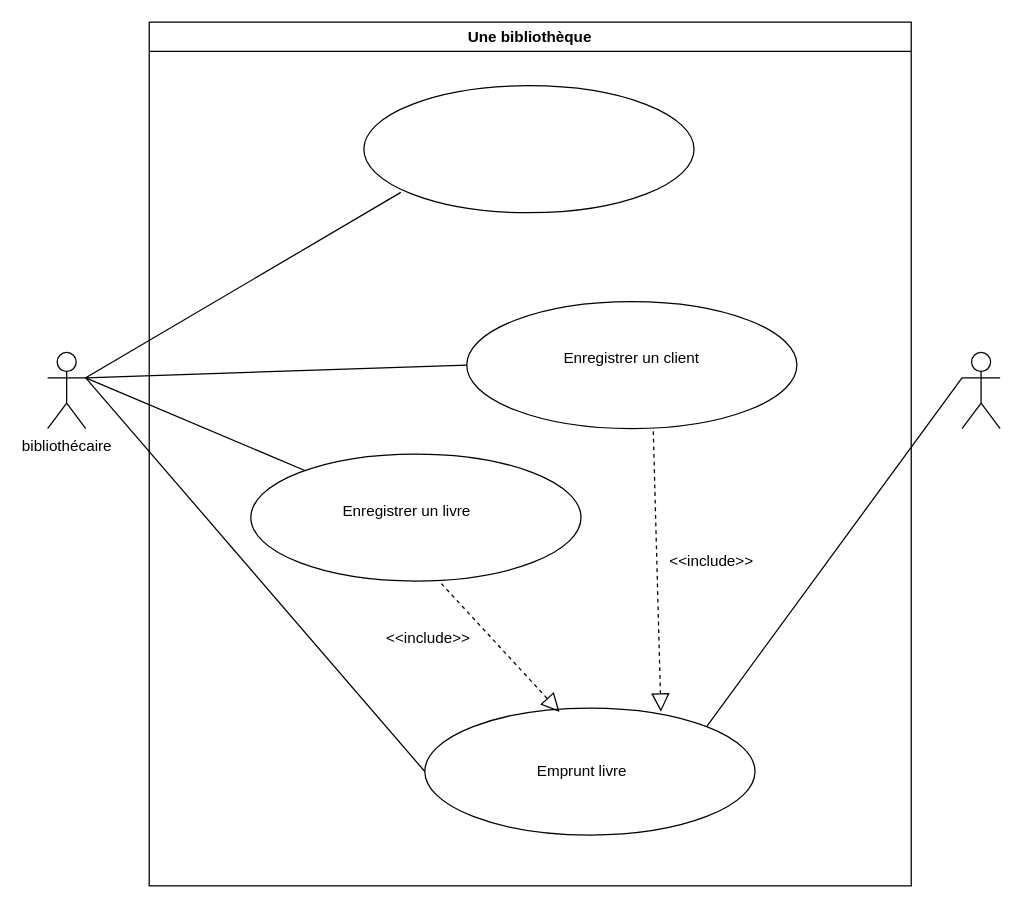
This 1022x908 diagram has some shape labels left out. The box of each missing label's shape, as (x1, y1, x2, y2) in pixels:
client: (961, 351, 1000, 429)
Enregistrer une bibliothécaire: (363, 84, 694, 213)
